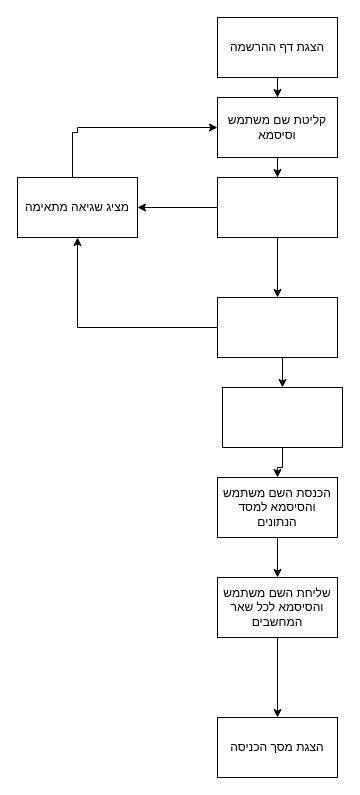
This 360x795 diagram has some shape labels left out. The centre of each missing label's shape, as x and y in pixels:
"בדיקה שהסיסמא מחילה אות קטנה אות גדולה סימן ומספר" belongs at (277,327).
"בדיקה שהשם משתמש לא קיים" belongs at (277,207).
"הצפנת הסיסמא" belongs at (282,417).
